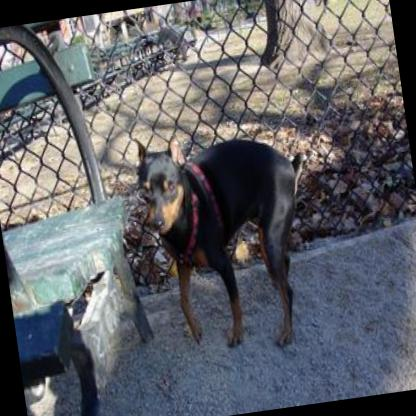miniature_pinscher: (125, 111, 330, 363)
